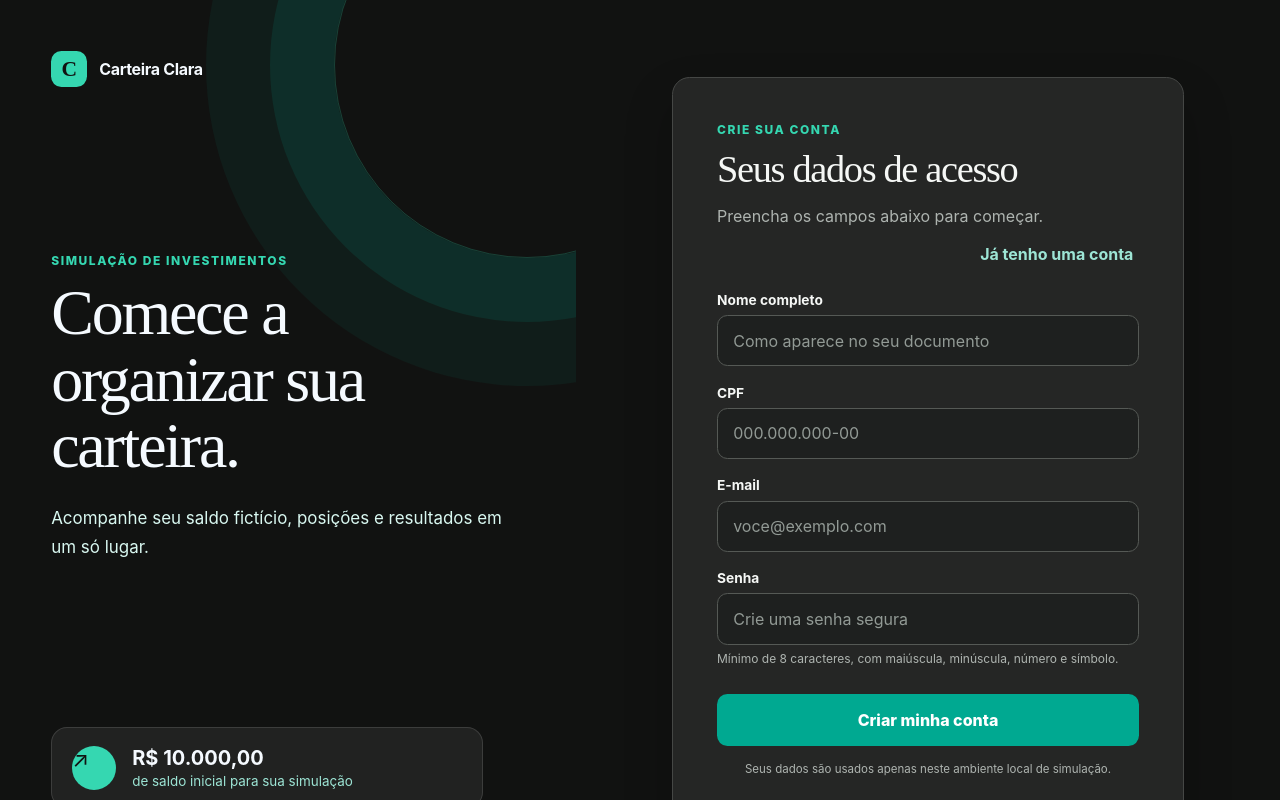
Cadastro › bloqueia reenvio enquanto aguarda a API
Type "Ana Silva" into the field labelled "Nome completo" at (928, 341), box top-left (717, 315), bottom-right (1139, 366)
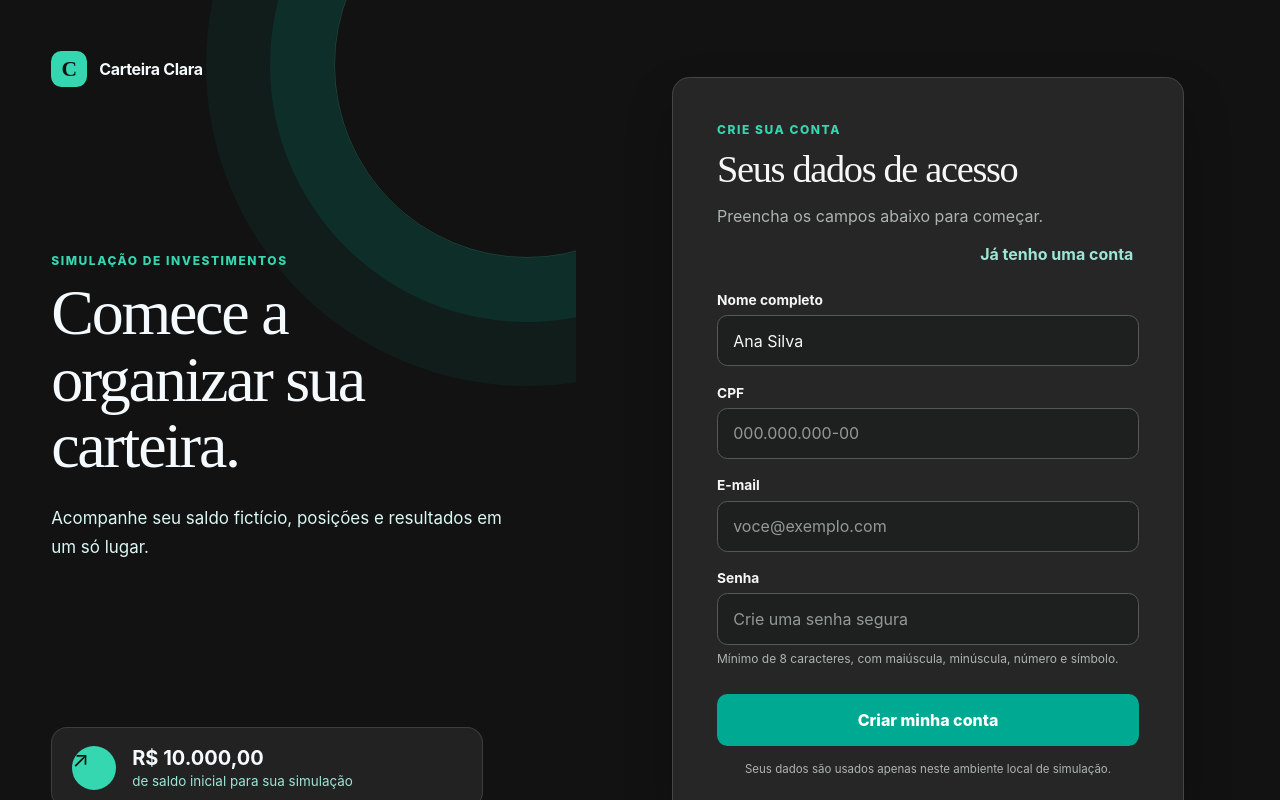
Type "52998224725" into the field labelled "CPF" at (928, 434), box top-left (717, 408), bottom-right (1139, 459)
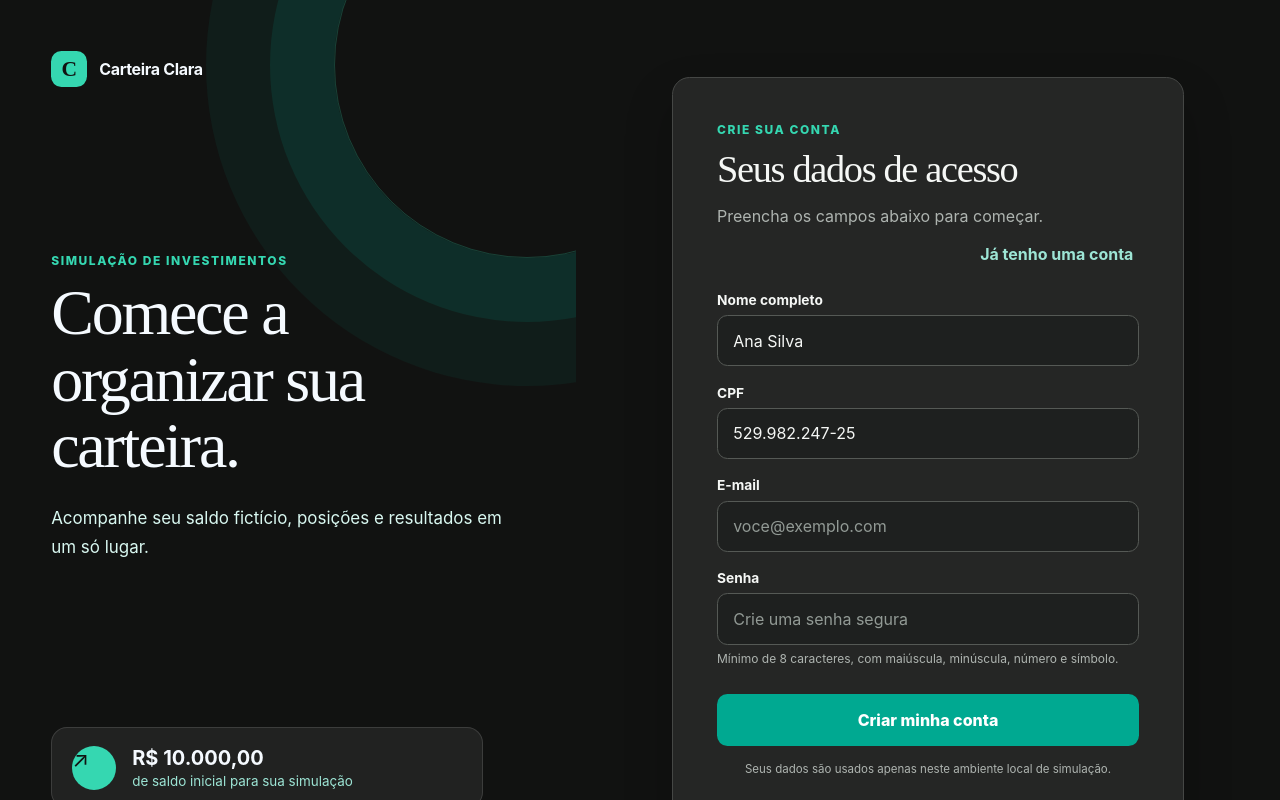
Type "ana@example.com" into the field labelled "E-mail" at (928, 526), box top-left (717, 501), bottom-right (1139, 552)
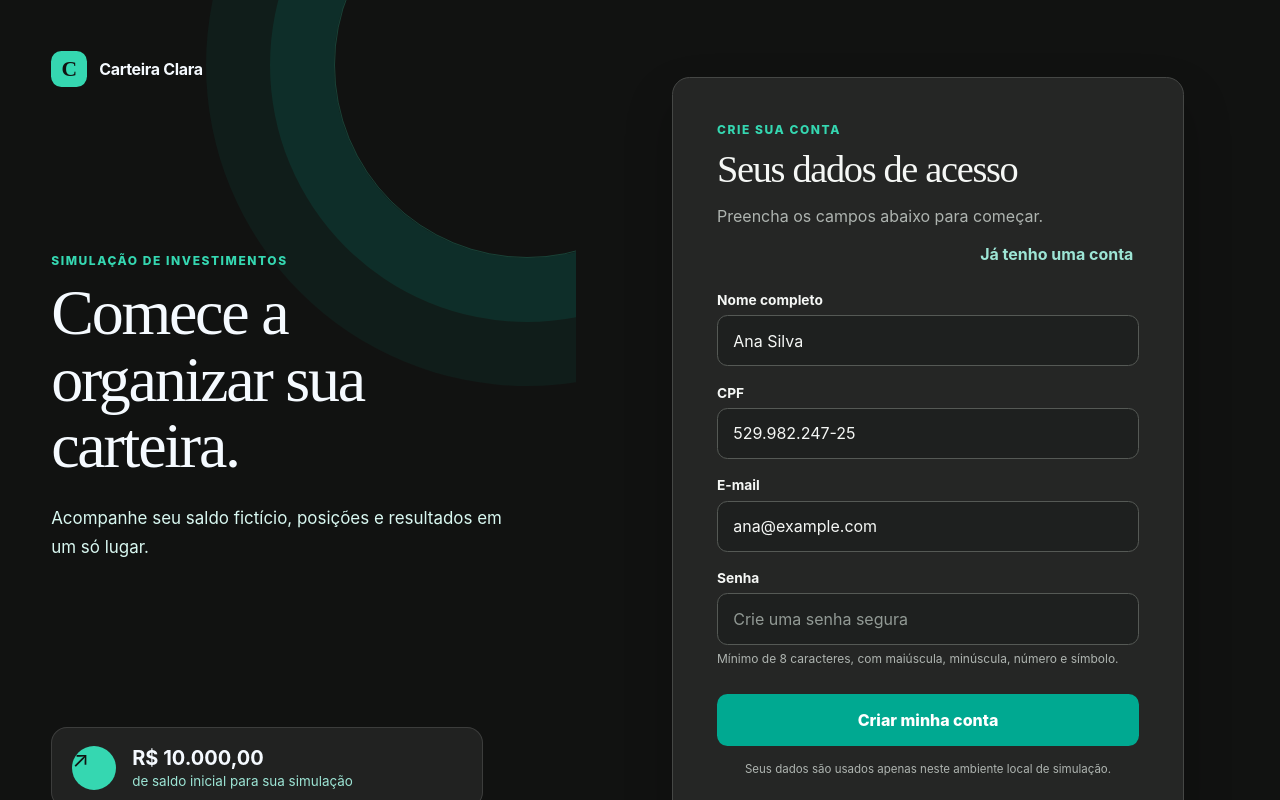
Type "Senha@123" into the password field labelled "Senha" at (928, 619), box top-left (717, 593), bottom-right (1139, 645)
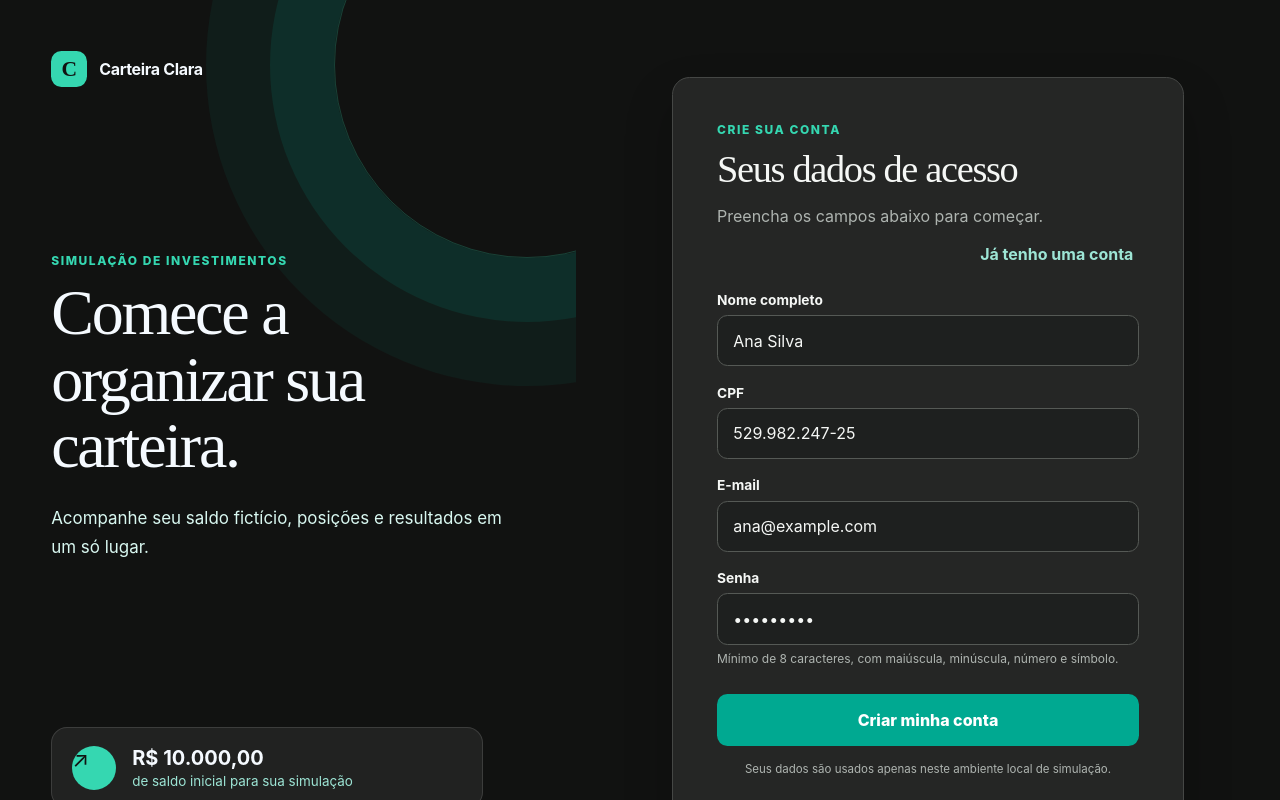
Click the button "Criar minha conta" at (928, 720), box top-left (717, 694), bottom-right (1139, 746)
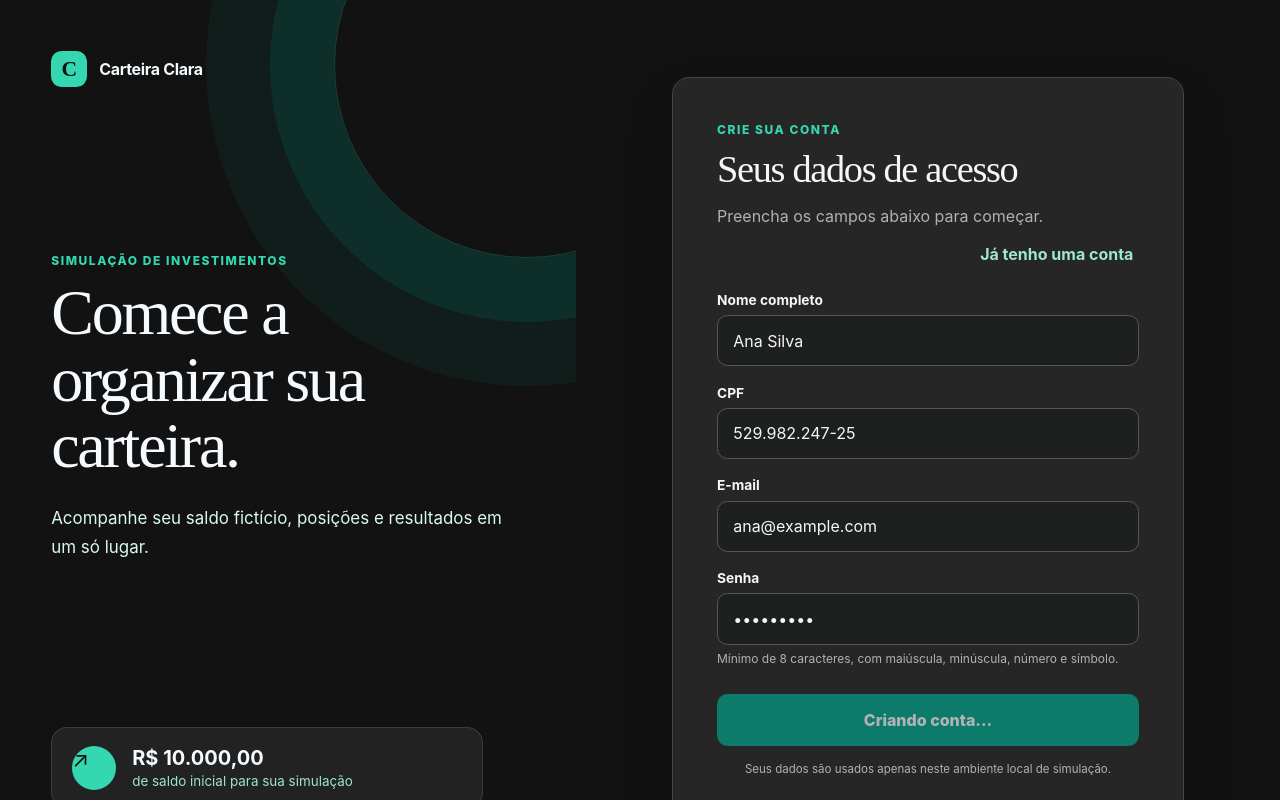
Now the button "Criando conta…" is disabled, box top-left (717, 694), bottom-right (1139, 746)
